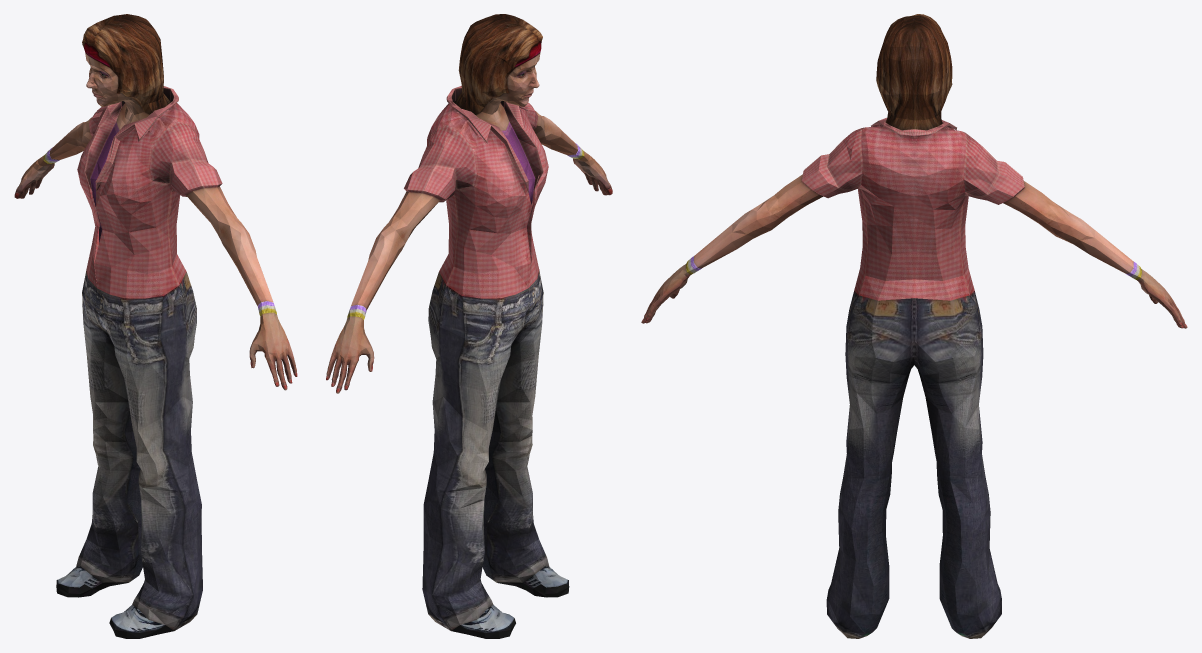
Rendered from Q1CWN4FYCJ4ZF7BOP2R884PTK.obj.
3 views of the same model, side by side, from view 1: azimuth 30°, elevation 25°; view 2: azimuth 150°, elevation 25°; view 3: azimuth 270°, elevation 25° (orthographic).
Parts seen in each view (by area): view 1: Object_body_dif.jpg; view 2: Object_body_dif.jpg; view 3: Object_body_dif.jpg.
Boxes of the visible parts, x1,y1,x2,y2 form: Object_body_dif.jpg: (14, 14, 297, 638); Object_body_dif.jpg: (326, 14, 612, 638); Object_body_dif.jpg: (641, 14, 1187, 638).
Bounding box in the file's own units: 0.4303 × 2.5 × 2.06.
1 material, 1 textured.
